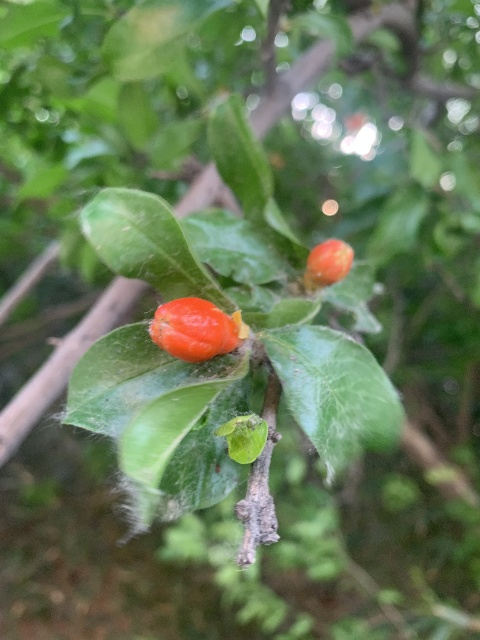bud: (149, 297, 243, 363), (304, 239, 354, 288)
